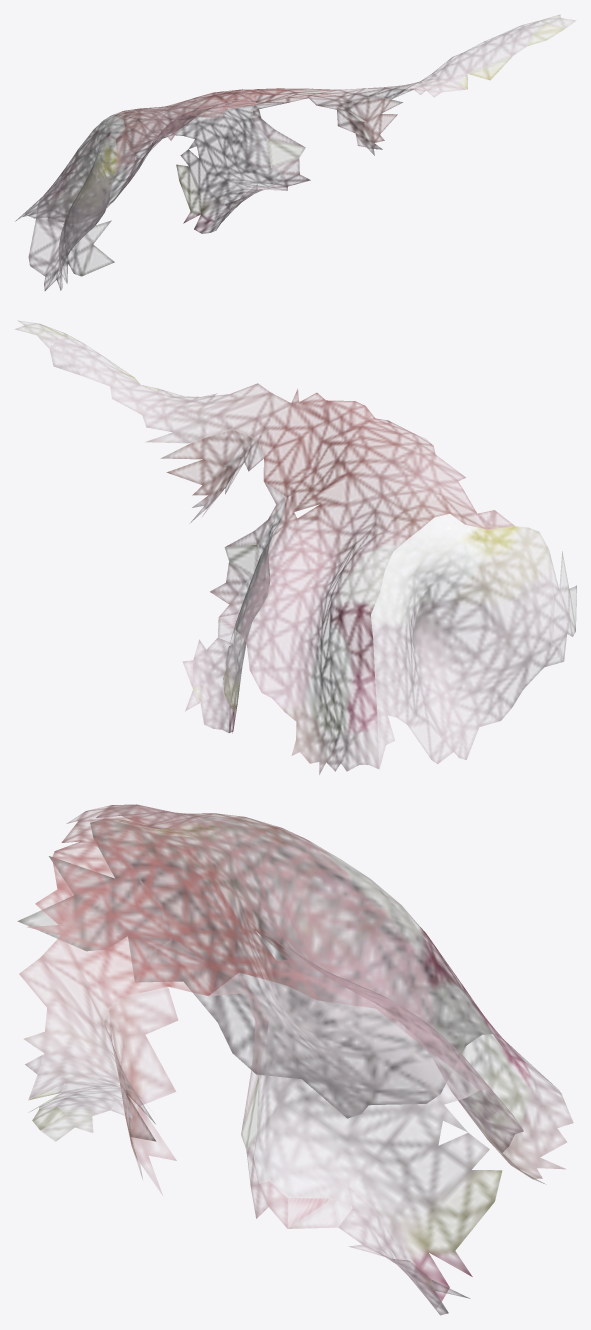
Rendered from Gitter4.glb.
3 renders of one model, top to bottom at view 1: azimuth 30°, elevation 25°; view 2: azimuth 150°, elevation 25°; view 3: azimuth 270°, elevation 25°, orthographic. The views are drawn at different scales.
Size of the model in its own units: 1.59 by 0.6752 by 0.7819.
1 material, 1 textured.
